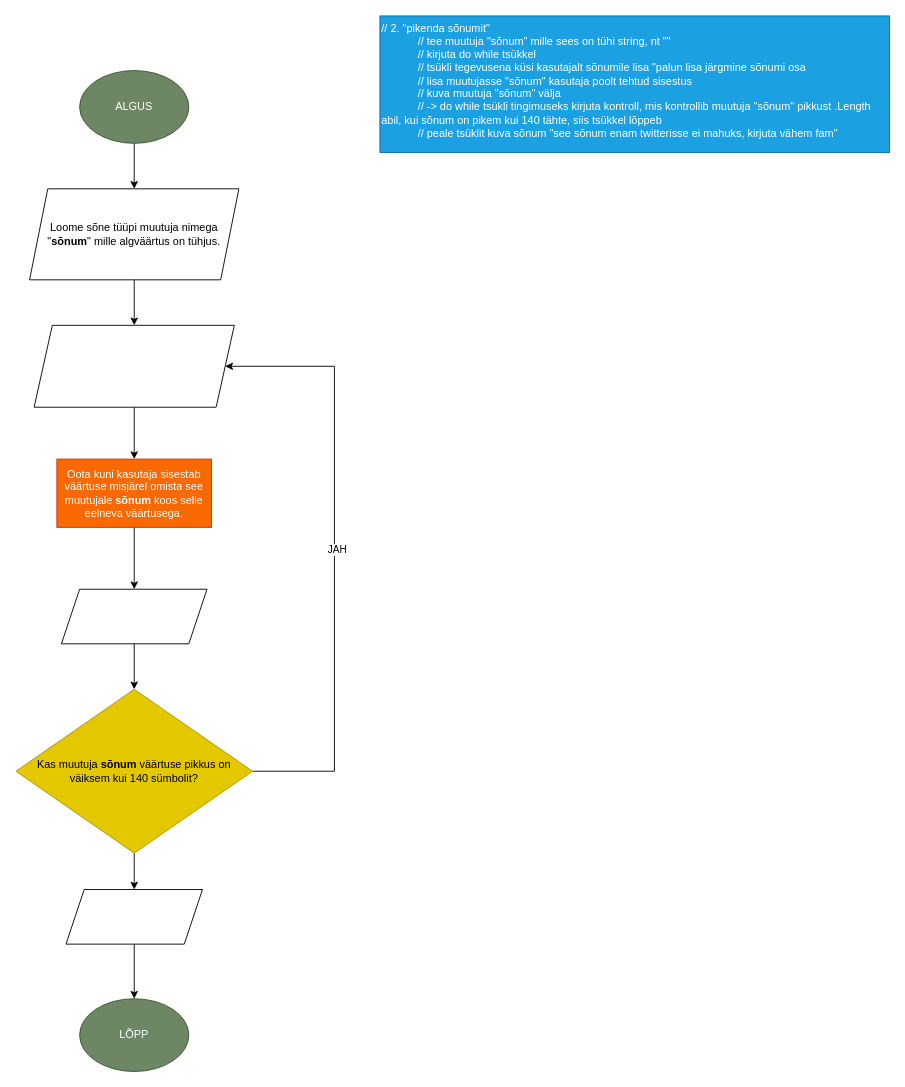
Some shapes in this 905 by 1087 pixel diagram are drawn without their labels. Each missing label, with the box of its shape:
Kuva tekst: "#2 tsükkel lõppes...": (65, 889, 202, 944)
Kuva tekst: "< sõnum> ": (61, 588, 207, 644)
Kuva tekst: "Palun lisa järgmine sõnumi osa: ": (33, 324, 234, 407)
